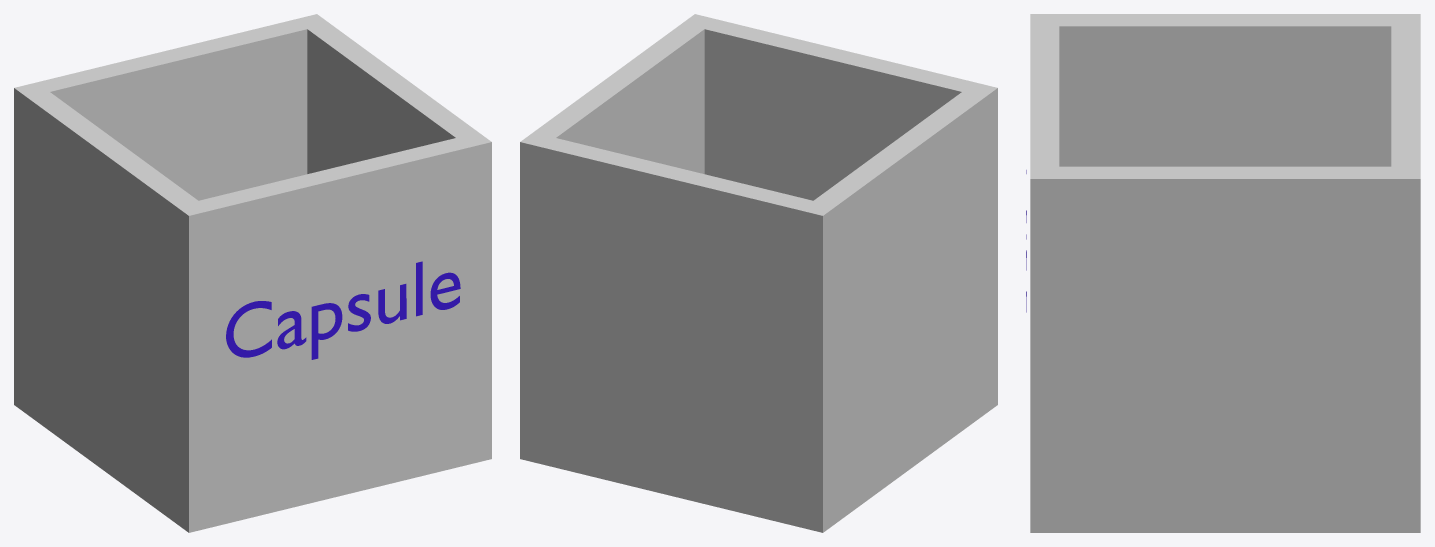
The picture shows the model from 3 angles, left to right: view 1: azimuth 30°, elevation 25°; view 2: azimuth 150°, elevation 25°; view 3: azimuth 270°, elevation 25°; orthographic projection. The views are drawn at different scales.
Visible parts, largest first — view 1: Text; view 2: Text; view 3: Text.
Boxes of the visible parts, box(x1,y1,x2,y2) form: Text: box(14, 14, 491, 532); Text: box(520, 14, 997, 532); Text: box(1026, 14, 1420, 532).
Size of the model in its own units: 200 by 200 by 202.
